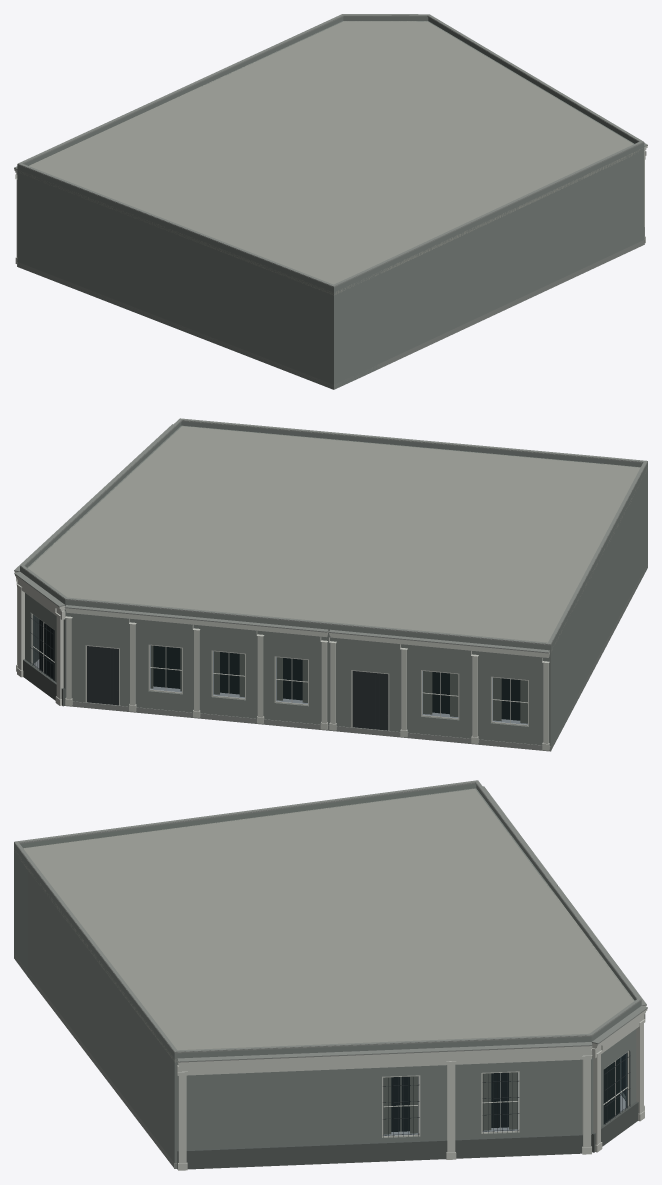
The model's file is building.glb.
3 views of the same model, one above another, from view 1: azimuth 30°, elevation 25°; view 2: azimuth 150°, elevation 25°; view 3: azimuth 270°, elevation 25° (orthographic). The views are drawn at different scales.
Parts seen in each view (by area): view 1: roof/bank:0/roof_slab#0001, bank:0/edge0/z0/bank:0/edge0/z0/wall_0_0, bank:0/edge3/z0/bank:0/edge3/z0/wall_0_0, roof/bank:0/parapet#0001, roof/bank:0/parapet_cap#0002, bank:0/edge1/z0/bank:0/edge1/z0/wall_0_0, roof/bank:0/parapet_cap#0001, bank:0/edge0/z0/plinth#0001, bank:0/edge3/z0/plinth#0001, bank:0/edge2/z0/bank:0/edge2/z0/wall_0_0; view 2: roof/bank:0/roof_slab#0001, bank:0/edge0/z0/bank:0/edge0/z0/wall_0_0, roof/bank:0/parapet#0001, bank:0/edge7/z0/bank:0/edge7/z0/wall_0_0/clip12, bank:0/edge8/z0/bank:0/edge8/z0/wall_0_0/clip10, roof/bank:0/parapet_cap#0002, bank:0/edge7/z0/bank:0/edge7/z0/wall_0_0/clip2, bank:0/edge8/z0/bank:0/edge8/z0/wall_0_0/clip2, roof/bank:0/parapet_cap#0001, bank:0/edge8/z0/opening_u1.08_v0.05/door_leaf#0001, bank:0/edge7/z0/opening_u1.00_v0.05/door_leaf#0001, bank:0/edge8/z0/opening_u4.55_v1.20/glazing#0001 (+45 smaller); view 3: roof/bank:0/roof_slab#0001, bank:0/edge5/z0/bank:0/edge5/z0/wall_0_0, bank:0/edge3/z0/bank:0/edge3/z0/wall_0_0, bank:0/edge5/z0/proj_panel_03/facade_projection_panel#0001, roof/bank:0/parapet#0001, roof/bank:0/parapet_cap#0002, bank:0/edge5/z0/proj_panel_04/facade_projection_panel#0001, roof/bank:0/parapet_cap#0001, bank:0/edge5/z0/opening_u13.55_v1.10/glazing#0001, bank:0/edge5/z0/opening_u9.12_v1.10/glazing#0001, bank:0/edge5/z0/proj_cornice_05/cornice_drip#0001, bank:0/edge1/z0/bank:0/edge1/z0/wall_0_0 (+16 smaller).
Part boxes in pixels (box(x1,y1,x2,y2)): roof/bank:0/roof_slab#0001: box(17, 21, 642, 295); bank:0/edge0/z0/bank:0/edge0/z0/wall_0_0: box(17, 170, 333, 389); bank:0/edge3/z0/bank:0/edge3/z0/wall_0_0: box(376, 147, 644, 369); roof/bank:0/parapet#0001: box(17, 16, 644, 292); roof/bank:0/parapet_cap#0002: box(18, 14, 643, 286); bank:0/edge1/z0/bank:0/edge1/z0/wall_0_0: box(334, 279, 361, 389); roof/bank:0/parapet_cap#0001: box(17, 15, 644, 287); bank:0/edge0/z0/plinth#0001: box(17, 262, 333, 389); bank:0/edge3/z0/plinth#0001: box(376, 240, 644, 369); bank:0/edge2/z0/bank:0/edge2/z0/wall_0_0: box(362, 273, 376, 376); roof/bank:0/roof_slab#0001: box(28, 426, 647, 651); bank:0/edge0/z0/bank:0/edge0/z0/wall_0_0: box(551, 467, 647, 749); roof/bank:0/parapet#0001: box(20, 421, 647, 650); bank:0/edge7/z0/bank:0/edge7/z0/wall_0_0/clip12: box(65, 605, 329, 661); bank:0/edge8/z0/bank:0/edge8/z0/wall_0_0/clip10: box(329, 629, 550, 681); roof/bank:0/parapet_cap#0002: box(20, 418, 647, 644); bank:0/edge7/z0/bank:0/edge7/z0/wall_0_0/clip2: box(120, 688, 329, 725); bank:0/edge8/z0/bank:0/edge8/z0/wall_0_0/clip2: box(389, 714, 550, 745); roof/bank:0/parapet_cap#0001: box(20, 420, 647, 645); bank:0/edge8/z0/opening_u1.08_v0.05/door_leaf#0001: box(352, 671, 388, 730); bank:0/edge7/z0/opening_u1.00_v0.05/door_leaf#0001: box(87, 646, 118, 705); bank:0/edge8/z0/opening_u4.55_v1.20/glazing#0001: box(422, 671, 458, 718); roof/bank:0/roof_slab#0001: box(14, 788, 634, 1062); bank:0/edge5/z0/bank:0/edge5/z0/wall_0_0: box(177, 1059, 591, 1150); bank:0/edge3/z0/bank:0/edge3/z0/wall_0_0: box(35, 877, 174, 1162); bank:0/edge5/z0/proj_panel_03/facade_projection_panel#0001: box(177, 1134, 591, 1169); roof/bank:0/parapet#0001: box(14, 783, 641, 1058); roof/bank:0/parapet_cap#0002: box(14, 780, 641, 1052); bank:0/edge5/z0/proj_panel_04/facade_projection_panel#0001: box(177, 1049, 591, 1075); roof/bank:0/parapet_cap#0001: box(14, 782, 641, 1053); bank:0/edge5/z0/opening_u13.55_v1.10/glazing#0001: box(482, 1072, 518, 1131); bank:0/edge5/z0/opening_u9.12_v1.10/glazing#0001: box(383, 1076, 418, 1135); bank:0/edge5/z0/proj_cornice_05/cornice_drip#0001: box(177, 1042, 592, 1062); bank:0/edge1/z0/bank:0/edge1/z0/wall_0_0: box(14, 848, 27, 976).
Size of the model in its own units: 28.91 by 5.72 by 28.13.
